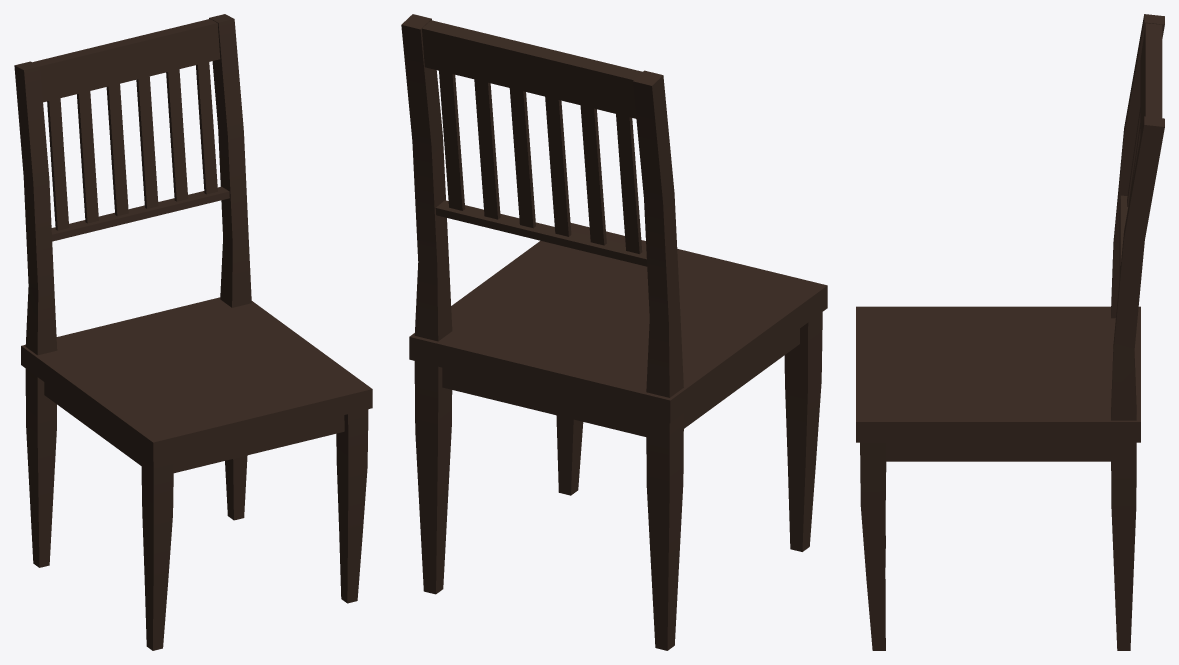
The model's file is pk_chair_ladder_espresso.glb.
3 views of the same model, side by side, from view 1: azimuth 30°, elevation 25°; view 2: azimuth 150°, elevation 25°; view 3: azimuth 270°, elevation 25° (orthographic). The views are drawn at different scales.
Parts seen in each view (by area): view 1: pk_chair_ladder_espresso; view 2: pk_chair_ladder_espresso; view 3: pk_chair_ladder_espresso.
Boxes of the visible parts, x1,y1,x2,y2 form: pk_chair_ladder_espresso: (14, 14, 372, 650); pk_chair_ladder_espresso: (401, 14, 827, 650); pk_chair_ladder_espresso: (856, 14, 1164, 650).
Bounding box in the file's own units: 0.46 × 0.98 × 0.52.
Materials: 1 (1 with a texture image).
